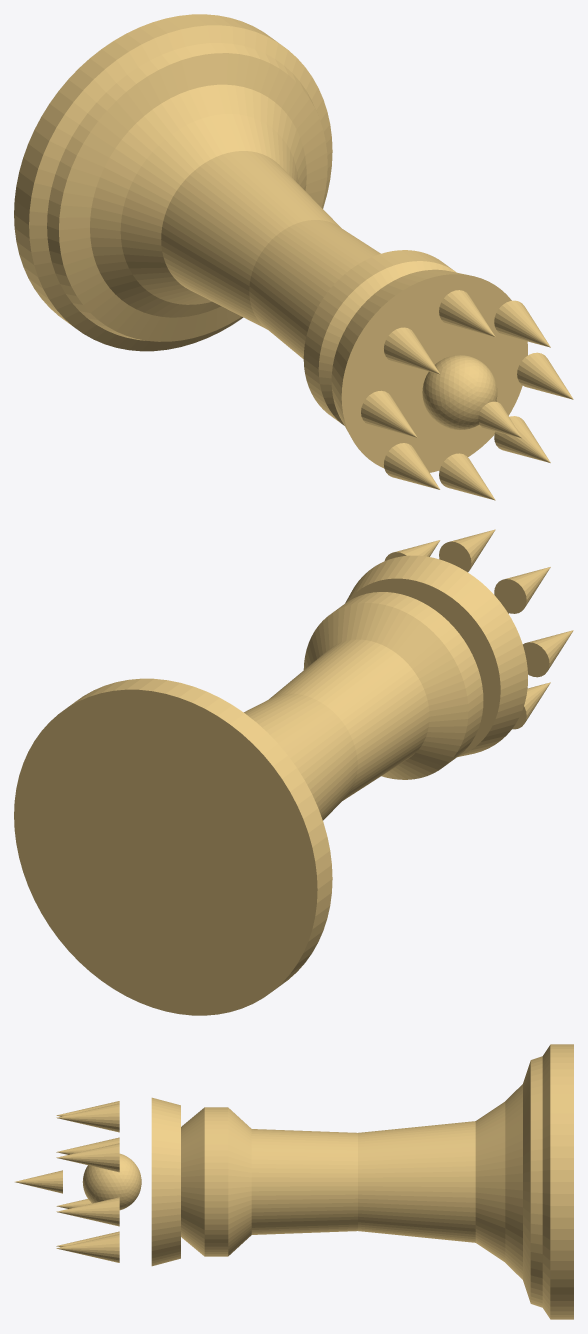
File: senapati_surya.glb
3 renders of one model, top to bottom at view 1: azimuth 30°, elevation 25°; view 2: azimuth 150°, elevation 25°; view 3: azimuth 270°, elevation 25°, orthographic. The views are drawn at different scales.
Visible parts, largest first — view 1: geometry_0; view 2: geometry_0; view 3: geometry_0.
Boxes of the visible parts, x1,y1,x2,y2 form: geometry_0: (14, 14, 573, 500); geometry_0: (14, 529, 573, 1015); geometry_0: (15, 1044, 573, 1319).
Size of the model in its own units: 0.028 by 0.028 by 0.057.
